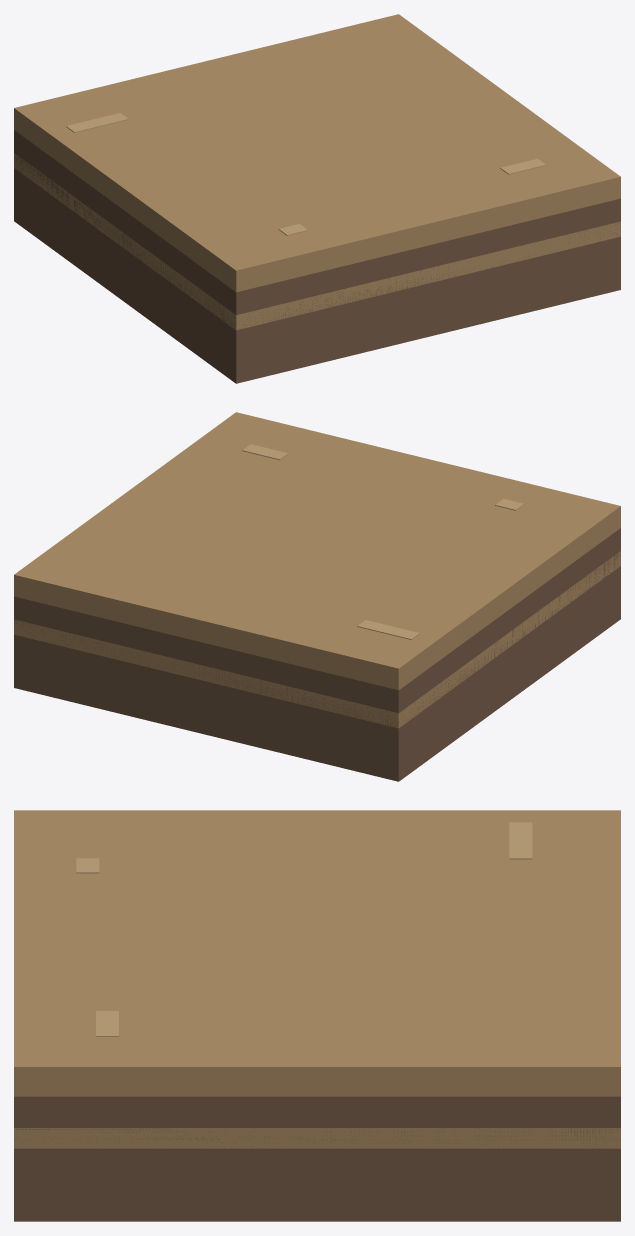
The model's file is base_ground.glb.
3 renders of one model, top to bottom at view 1: azimuth 30°, elevation 25°; view 2: azimuth 150°, elevation 25°; view 3: azimuth 270°, elevation 25°, orthographic. The views are drawn at different scales.
Parts seen in each view (by area): view 1: earth_top, underside, soil_stratum, wear; view 2: earth_top, underside, soil_stratum, wear; view 3: earth_top, underside, soil_stratum, wear, wear.001.
Boxes of the visible parts, x1,y1,x2,y2 form: earth_top: (14, 14, 620, 292); underside: (14, 130, 620, 383); soil_stratum: (14, 153, 620, 330); wear: (66, 113, 128, 132); earth_top: (14, 412, 620, 690); underside: (14, 528, 620, 781); soil_stratum: (14, 551, 620, 728); wear: (357, 620, 419, 639); earth_top: (14, 810, 620, 1096); underside: (14, 1096, 620, 1221); soil_stratum: (14, 1128, 620, 1148); wear: (509, 822, 532, 859); wear.001: (96, 1011, 118, 1036).
Bounding box in the file's own units: 0.925 × 0.262 × 0.925.
